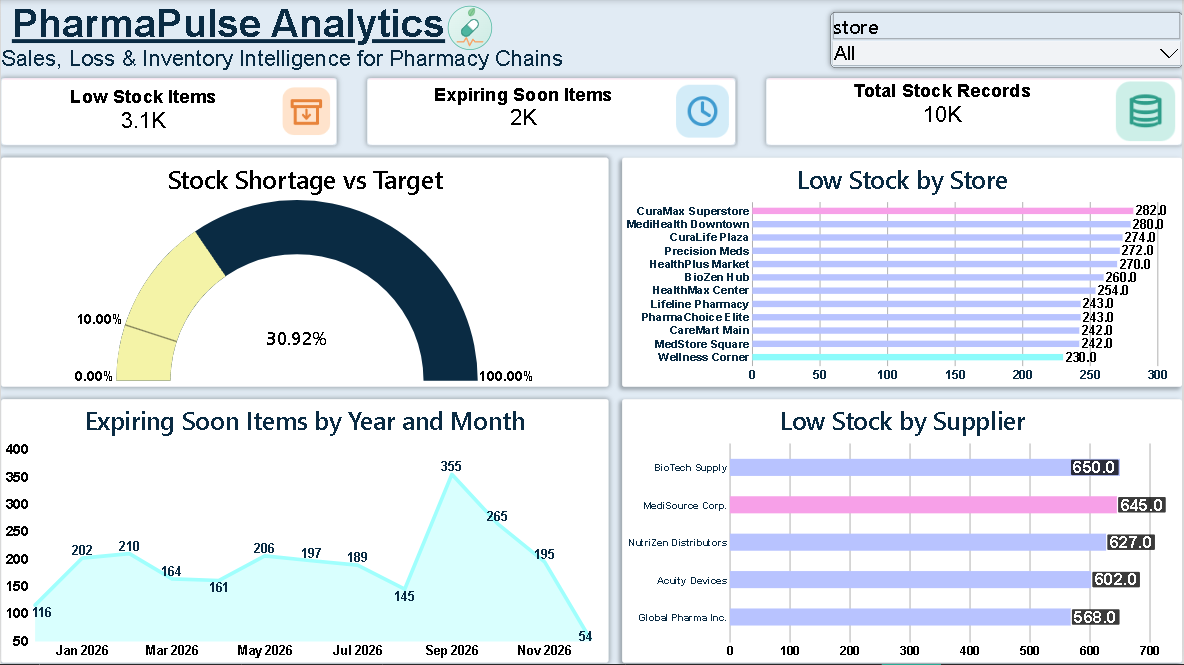

What the dashboard file says about the page in this screenshot:
{"tool":"powerbi","page":{"name":"Inventory & Suppliers","canvas":[3840,2160],"ordinal":2},"visuals":[{"type":"textbox","box":[0,0,2019.5,255.8],"z":0},{"type":"cardVisual","fields":{"Data":["stock_condition_log.Low Stock Items"]},"box":[0,255.8,1092.3,218.5],"z":1000},{"type":"cardVisual","fields":{"Data":["stock_condition_log.Expiring Soon Items"]},"box":[1188.3,255.8,1198.9,218.5],"z":2000},{"type":"gauge","title":"Stock Shortage vs Target","fields":{"Y":["Sales_clean.Low Stock %"]},"box":[0,511.5,1976.9,746],"z":3000},{"type":"slicer","fields":{"Values":["stores (2).store_name"]},"box":[2696.2,37.3,1145.6,181.2],"z":4000},{"type":"areaChart","fields":{"Category":["products_catalog (3).expiry_date.Variation.Date Hierarchy.Year","products_catalog (3).expiry_date.Variation.Date Hierarchy.Month"],"Y":["stock_condition_log.Expiring Soon Items"]},"box":[0,1300.1,1976.9,857.9],"z":5000},{"type":"barChart","title":"Low Stock by Supplier","fields":{"Category":["suppliers.supplier_name"],"Y":["stock_condition_log.Low Stock Items"]},"box":[2019.5,1300.1,1822.3,857.9],"z":6000},{"type":"cardVisual","fields":{"Data":["Sales_clean.Total Stock Records"]},"box":[2488.4,255.8,1353.4,218.5],"z":7000},{"type":"barChart","title":"Low Stock by Store","fields":{"Category":["stores (2).store_name"],"Y":["stock_condition_log.Low Stock Items"]},"box":[2019.5,511.5,1822.3,746],"z":8000},{"type":"image","box":[1369.4,0,309.1,181.2],"z":9000}]}

Visuals, with their boxes in screenshot pixels (x1, y1, x2, y2), scaled from the page's 3840x2160 canvas onto the 1184x665 screenshot:
textbox: crop(0, 0, 623, 79)
cardVisual - stock_condition_log.Low Stock Items: crop(0, 79, 337, 146)
cardVisual - stock_condition_log.Expiring Soon Items: crop(366, 79, 736, 146)
"Stock Shortage vs Target" gauge: crop(0, 157, 610, 387)
slicer - stores (2).store_name: crop(831, 11, 1183, 67)
areaChart - products_catalog (3).expiry_date.Variation.Date Hierarchy.Year x products_catalog (3).expiry_date.Variation.Date Hierarchy.Month: crop(0, 400, 610, 664)
"Low Stock by Supplier" barChart: crop(623, 400, 1183, 664)
cardVisual - Sales_clean.Total Stock Records: crop(767, 79, 1183, 146)
"Low Stock by Store" barChart: crop(623, 157, 1183, 387)
image: crop(422, 0, 518, 56)
